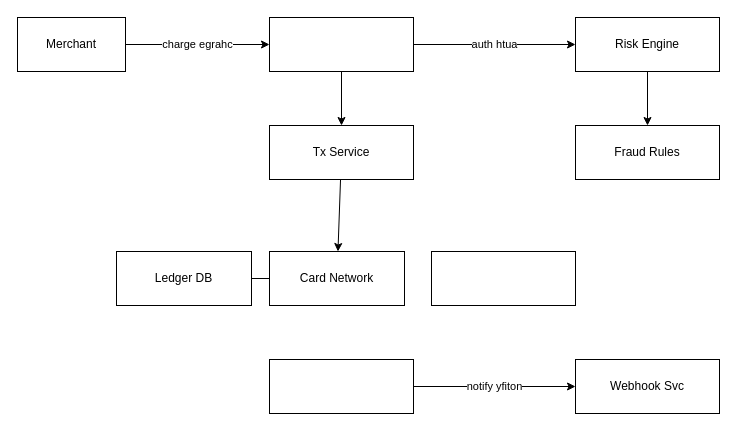
This 737x431 diagram has some shape labels left out. The box of each missing label's shape, as (x1, y1, x2, y2) in pixels:
Payment API: (268, 16, 414, 72)
Settlement: (268, 358, 414, 414)
Wallet: (430, 250, 576, 306)
